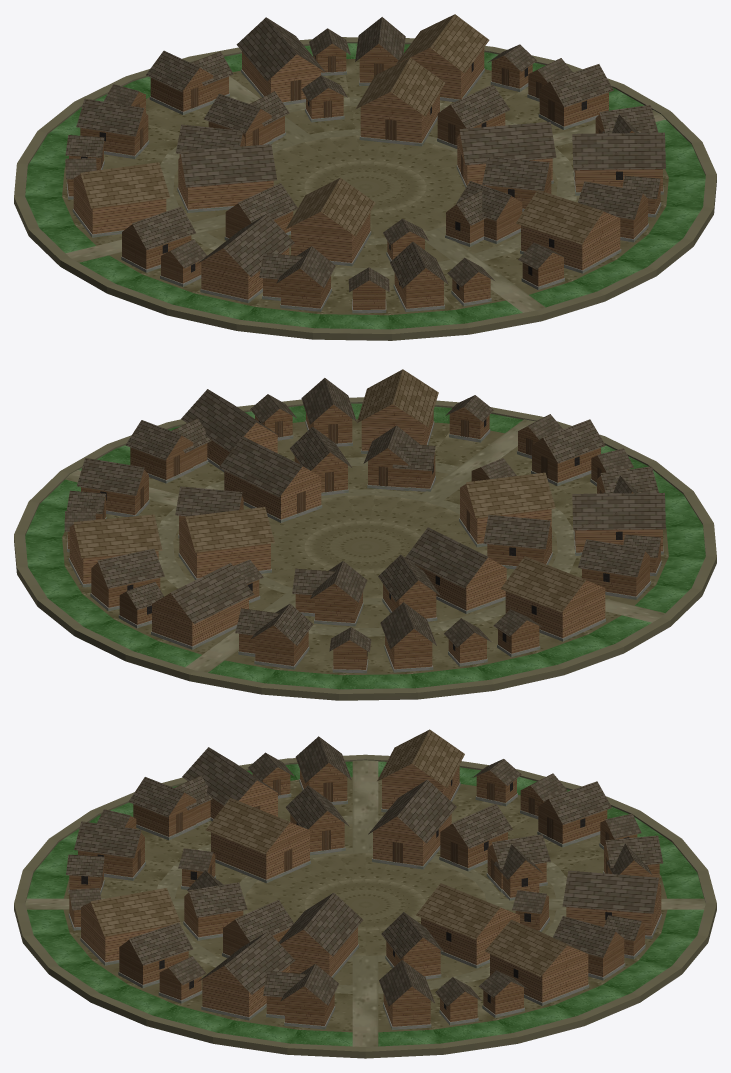
File: ae_forest_village_large_lod1.glb
3 renders of one model, top to bottom at view 1: azimuth 30°, elevation 25°; view 2: azimuth 150°, elevation 25°; view 3: azimuth 270°, elevation 25°, orthographic.
Visible parts, largest first — view 1: ae_forest_village_large_lod1; view 2: ae_forest_village_large_lod1; view 3: ae_forest_village_large_lod1.
Part boxes in pixels (box(x1,y1,x2,y2)): ae_forest_village_large_lod1: box(14, 14, 716, 340); ae_forest_village_large_lod1: box(14, 369, 716, 700); ae_forest_village_large_lod1: box(14, 729, 716, 1058).
Size of the model in its own units: 1.9 by 0.1715 by 1.9.
1 material, 1 textured.
